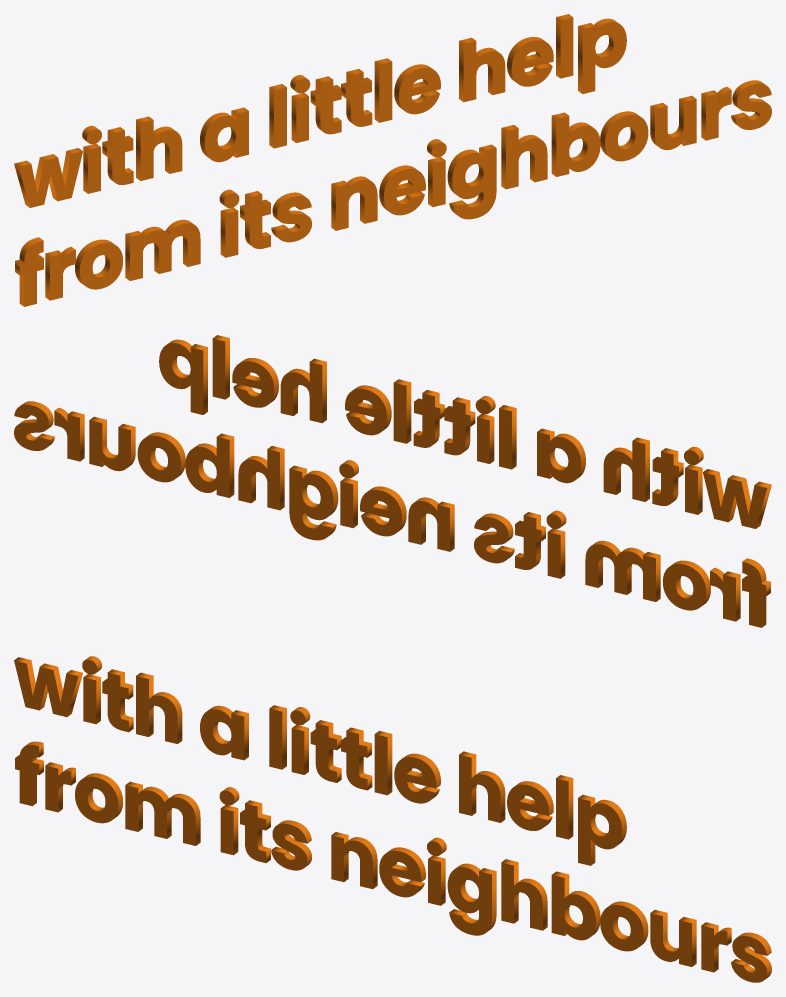
The model's file is yazison.gltf.
3 views of the same model, one above another, from view 1: azimuth 30°, elevation 25°; view 2: azimuth 150°, elevation 25°; view 3: azimuth 330°, elevation 25° (orthographic).
Parts seen in each view (by area): view 1: Text.067, Text.066; view 2: Text.067, Text.066; view 3: Text.067, Text.066.
Part boxes in pixels (x1,y1,x2,y2): Text.067: [15, 80, 771, 306]; Text.066: [14, 14, 626, 207]; Text.067: [14, 401, 770, 627]; Text.066: [159, 335, 771, 528]; Text.067: [15, 741, 771, 982]; Text.066: [14, 656, 626, 865].
Size of the model in its own units: 0.2831 by 0.0653 by 0.00304.
